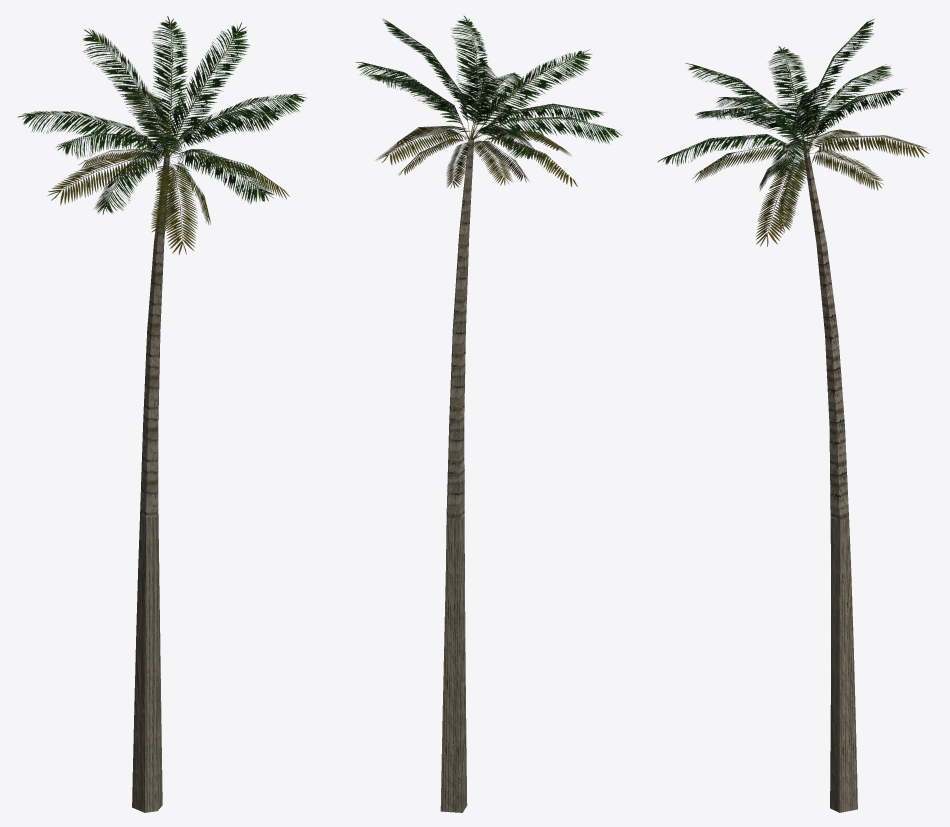
The model's file is medina_cityscape_palm.gltf.
3 views of the same model, side by side, from view 1: azimuth 30°, elevation 25°; view 2: azimuth 150°, elevation 25°; view 3: azimuth 270°, elevation 25° (orthographic).
Parts seen in each view (by area): view 1: medina_cityscape_palm; view 2: medina_cityscape_palm; view 3: medina_cityscape_palm.
Part boxes in pixels (box(x1,y1,x2,y2)): medina_cityscape_palm: box(17, 16, 306, 812); medina_cityscape_palm: box(356, 16, 622, 812); medina_cityscape_palm: box(658, 18, 929, 812).
Size of the model in its own units: 2.13 by 6.12 by 2.03.
Materials: 2 (2 with a texture image).
